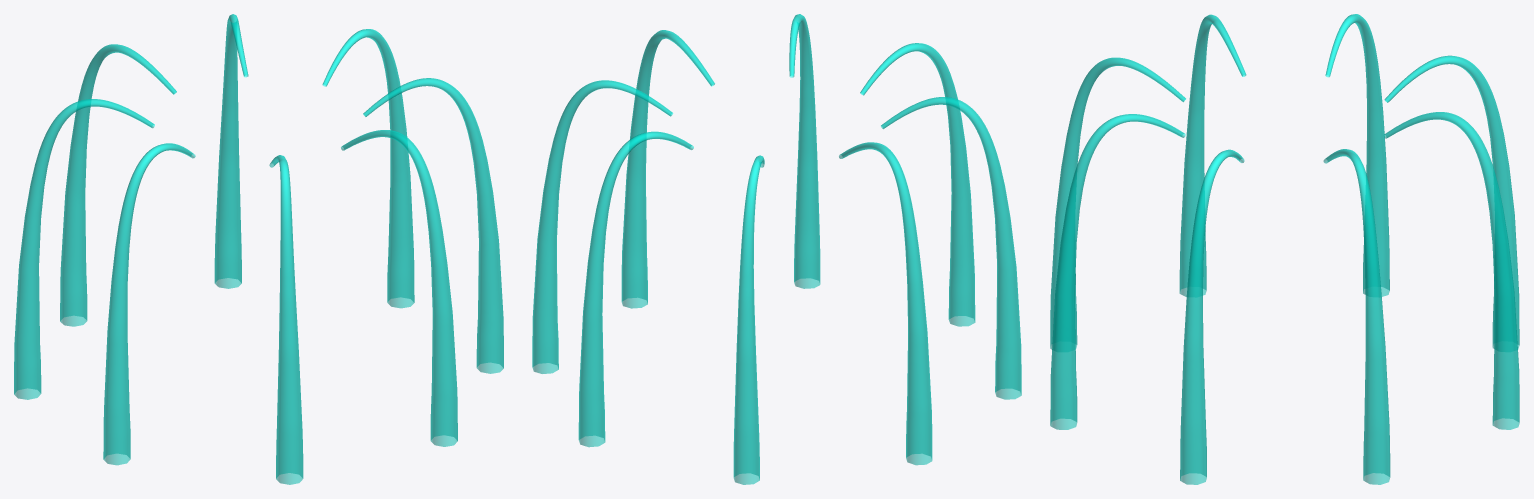
The model's file is tube_eau_fontaine_all.fbx.
3 renders of one model, left to right at view 1: azimuth 30°, elevation 25°; view 2: azimuth 150°, elevation 25°; view 3: azimuth 270°, elevation 25°, orthographic. The views are drawn at different scales.
Parts seen in each view (by area): view 1: sweep19, sweep14, sweep21, sweep16, sweep17, sweep15, sweep20, sweep18; view 2: sweep18, sweep20, sweep16, sweep14, sweep17, sweep15, sweep21, sweep19; view 3: sweep18, sweep19, sweep20, sweep21, sweep15, sweep17, sweep14, sweep16.
Part boxes in pixels (x1=…): sweep19: x1=341, y1=130, x2=457, y2=446; sweep14: x1=14, y1=99, x2=154, y2=399; sweep21: x1=363, y1=78, x2=503, y2=373; sweep16: x1=103, y1=143, x2=195, y2=465; sweep17: x1=269, y1=155, x2=303, y2=484; sweep15: x1=60, y1=44, x2=176, y2=326; sweep20: x1=322, y1=29, x2=414, y2=308; sweep18: x1=214, y1=14, x2=248, y2=288; sweep18: x1=578, y1=131, x2=693, y2=447; sweep20: x1=532, y1=80, x2=672, y2=373; sweep16: x1=881, y1=97, x2=1021, y2=399; sweep14: x1=839, y1=142, x2=932, y2=465; sweep17: x1=860, y1=43, x2=975, y2=326; sweep15: x1=733, y1=155, x2=764, y2=484; sweep21: x1=621, y1=30, x2=714, y2=308; sweep19: x1=789, y1=14, x2=820, y2=288; sweep18: x1=1383, y1=112, x2=1519, y2=429; sweep19: x1=1050, y1=114, x2=1185, y2=429; sweep20: x1=1323, y1=149, x2=1390, y2=484; sweep21: x1=1180, y1=149, x2=1244, y2=484; sweep15: x1=1384, y1=55, x2=1519, y2=349; sweep17: x1=1050, y1=57, x2=1185, y2=349; sweep14: x1=1325, y1=14, x2=1389, y2=296; sweep16: x1=1179, y1=14, x2=1246, y2=296.
Bounding box in the file's own units: 954 × 673 × 954.
